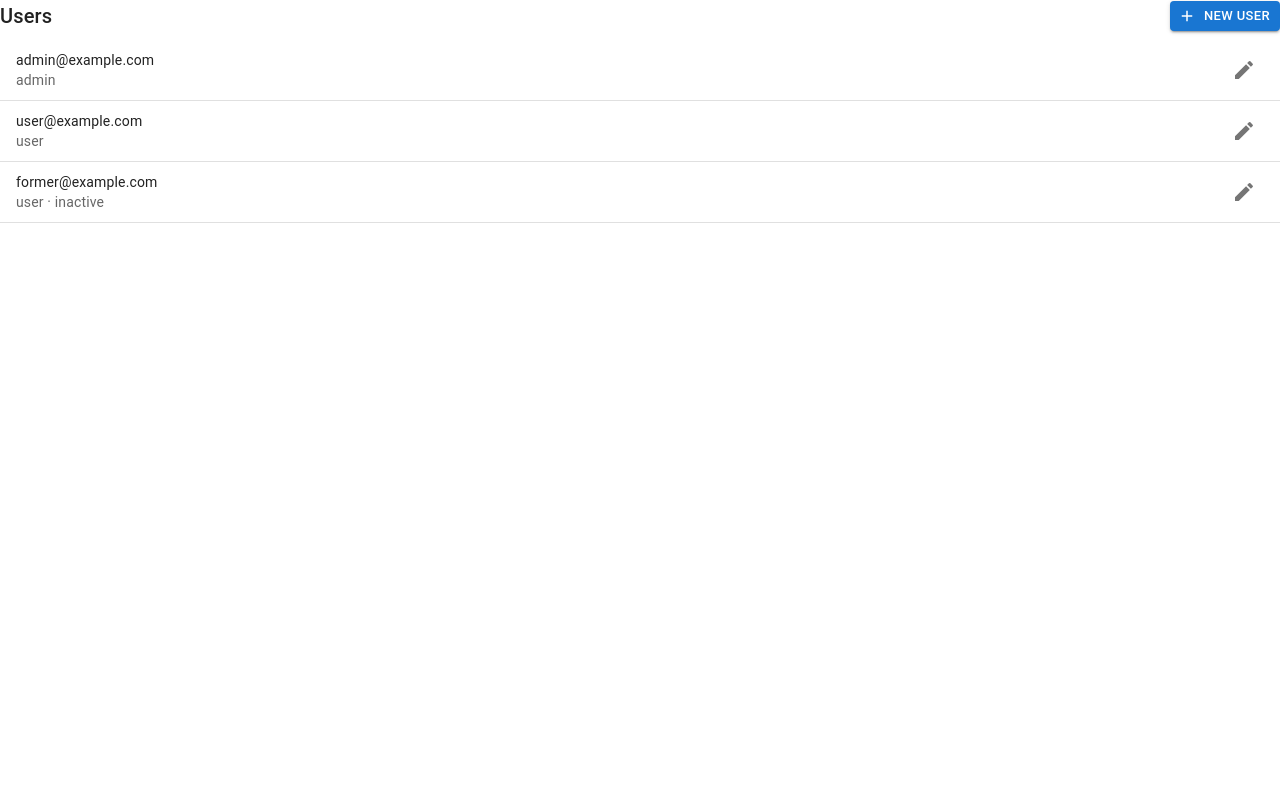
Scenario: UsersAdmin › creates a user with the chosen role
Check: the text "user@example.com" is shown, box [16, 113, 142, 129]
Step 1. Click the button "New user" → (1225, 16), box [1170, 1, 1279, 31]
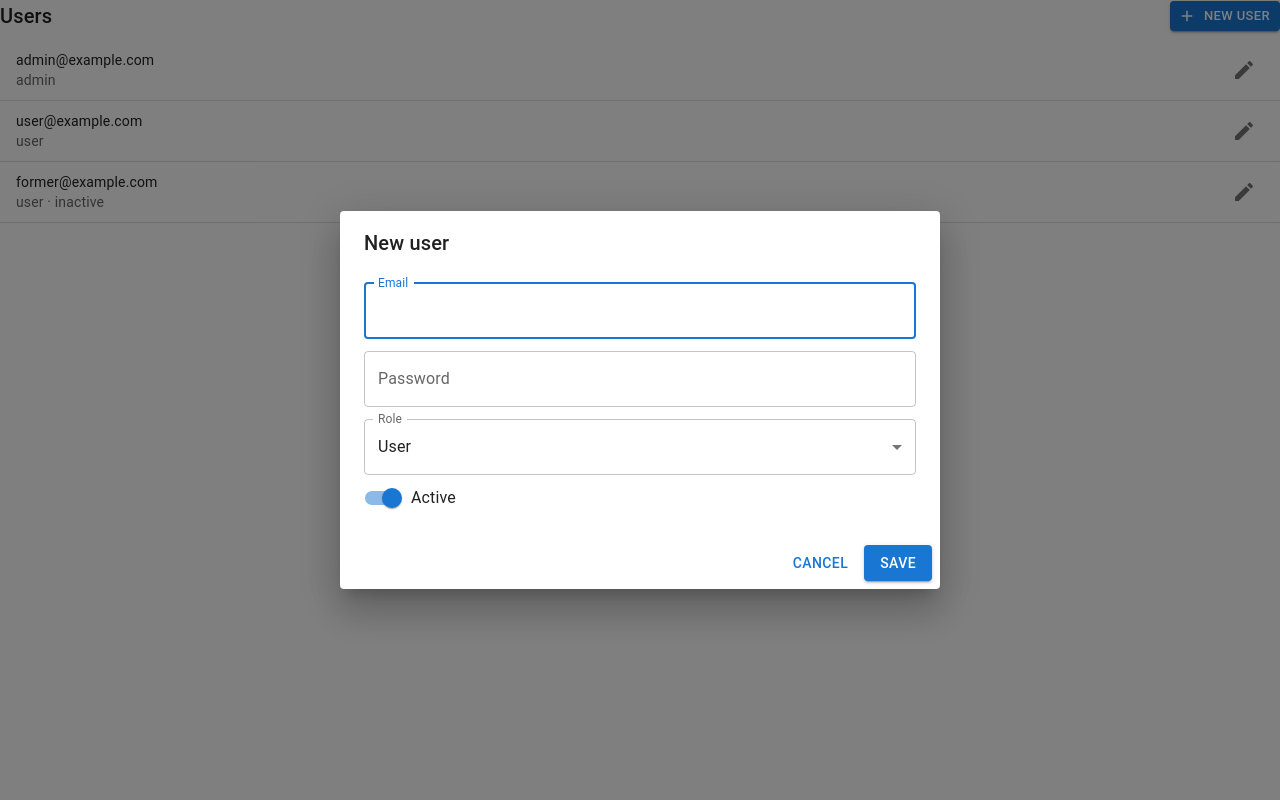
Step 2. Type "new@example.com" into the field labelled "Email" → (640, 311), box [364, 283, 916, 339]
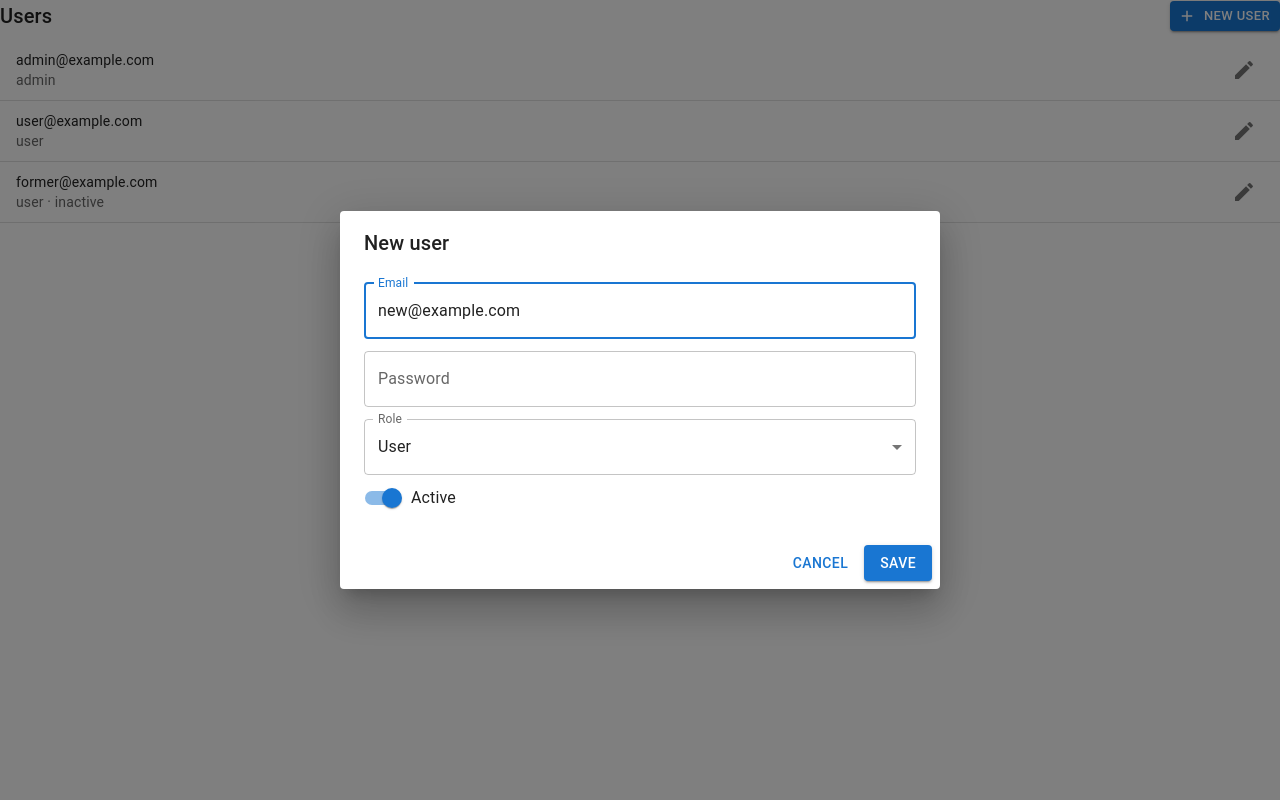
Step 3. Type "longenough" into the password field labelled "Password" → (640, 379), box [364, 351, 916, 407]
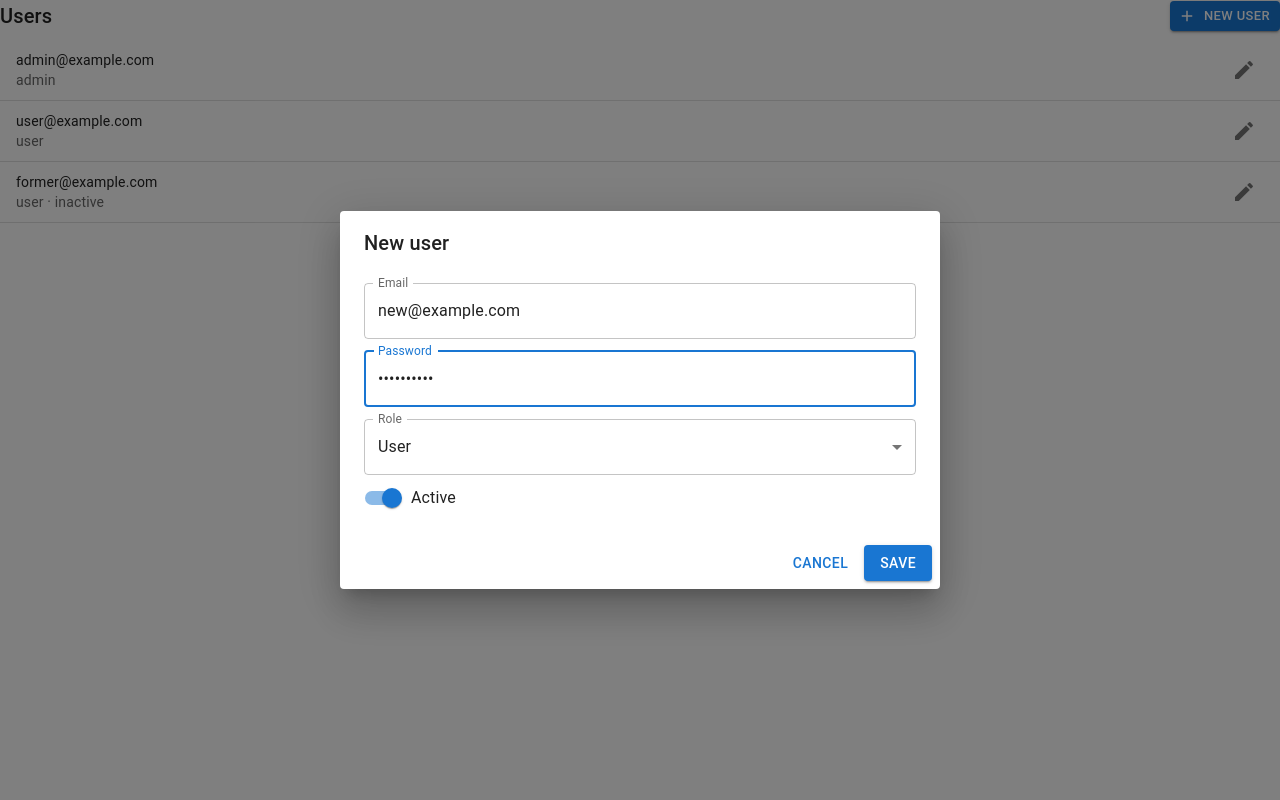
Step 4. Click the dropdown named "Role" → (395, 447), box [378, 437, 411, 456]
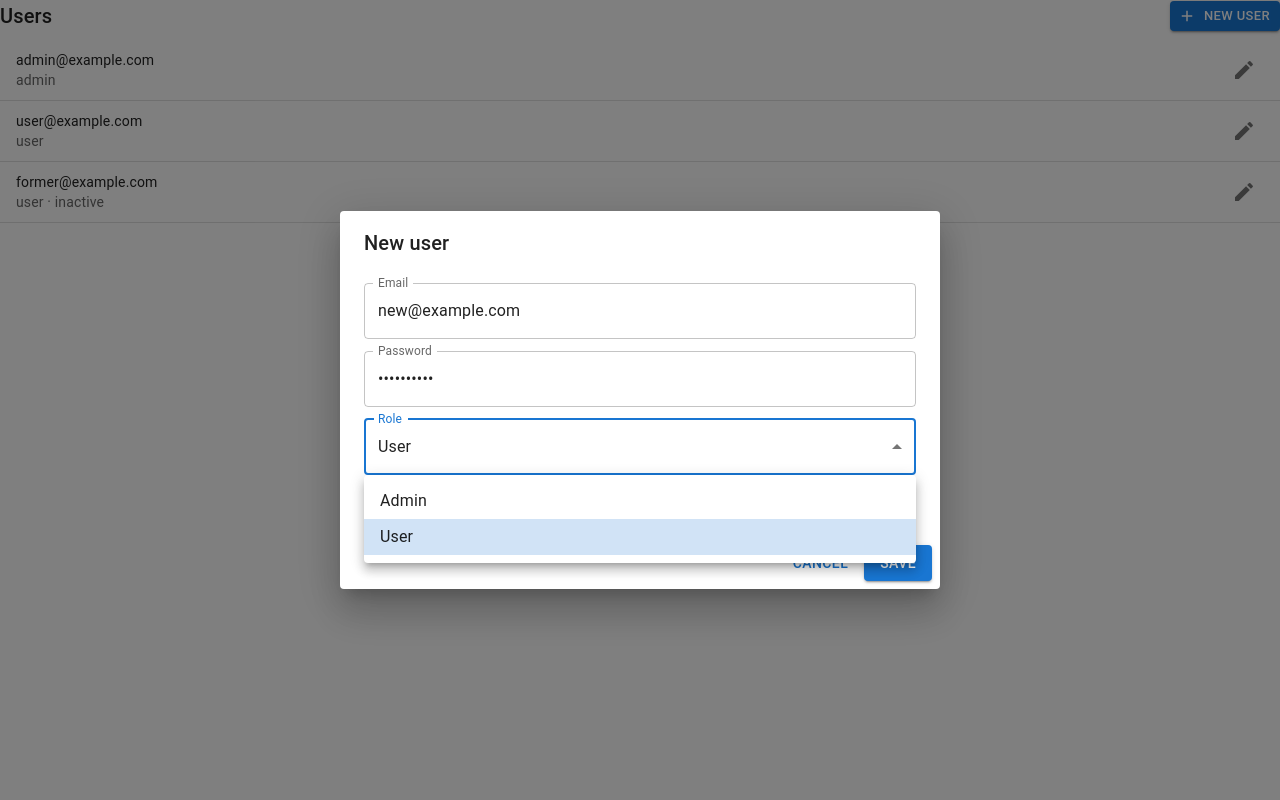
Step 5. Click the option "Admin" → (404, 500), box [380, 491, 427, 510]
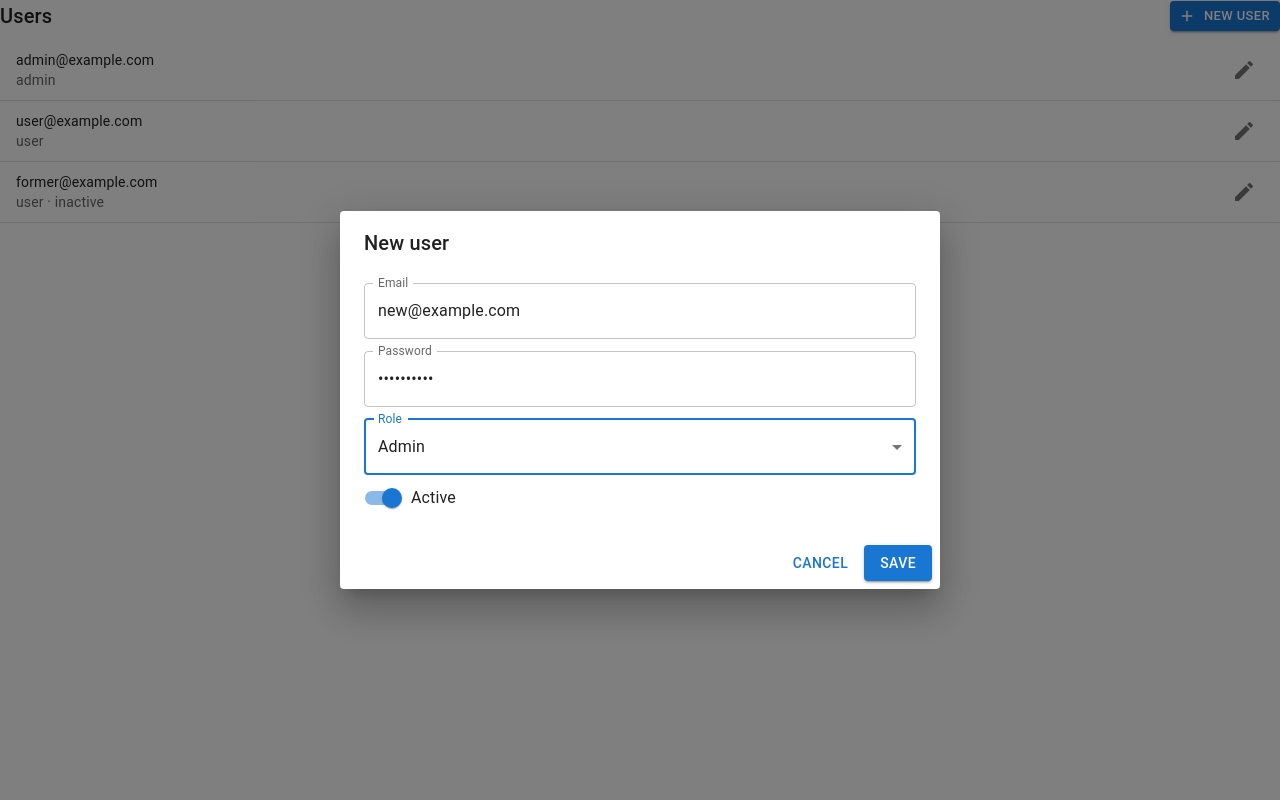
Step 6. Click the button "Save" → (898, 563), box [864, 545, 932, 581]
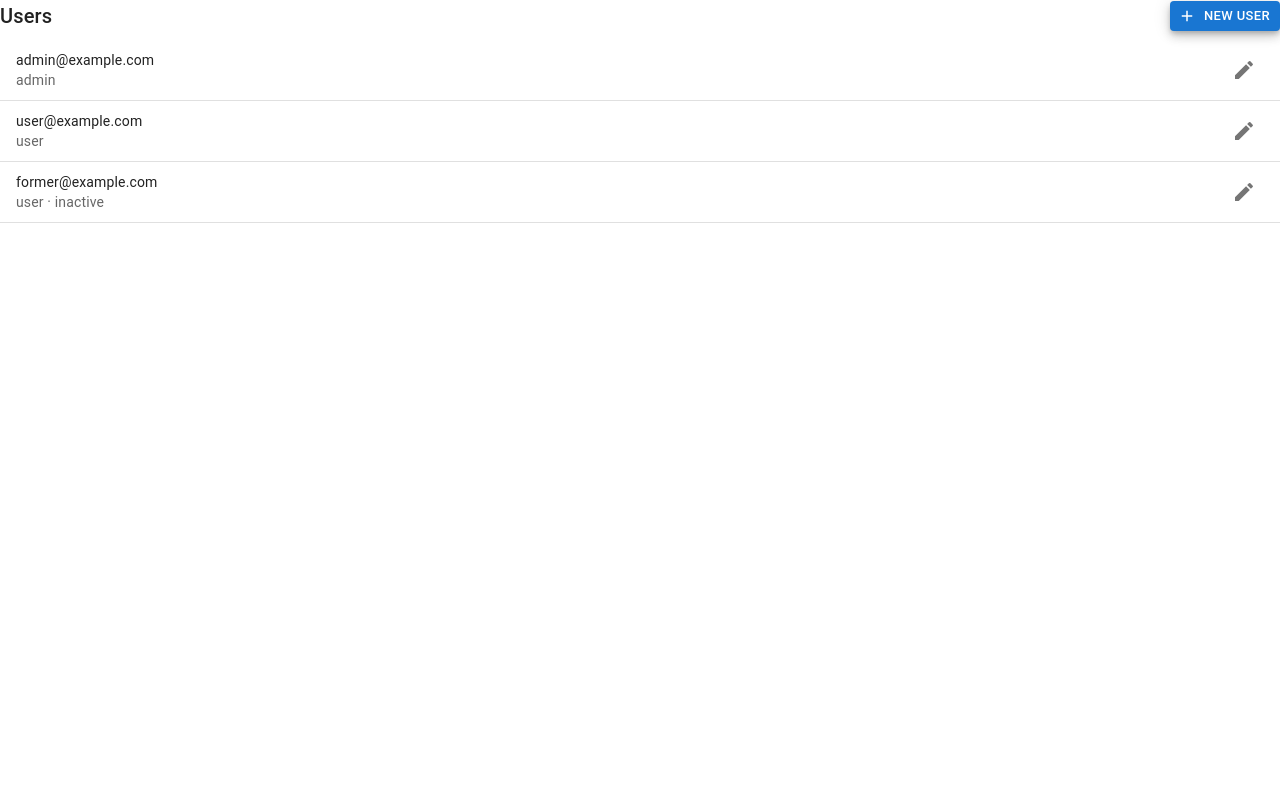
Check: the dialog is gone
